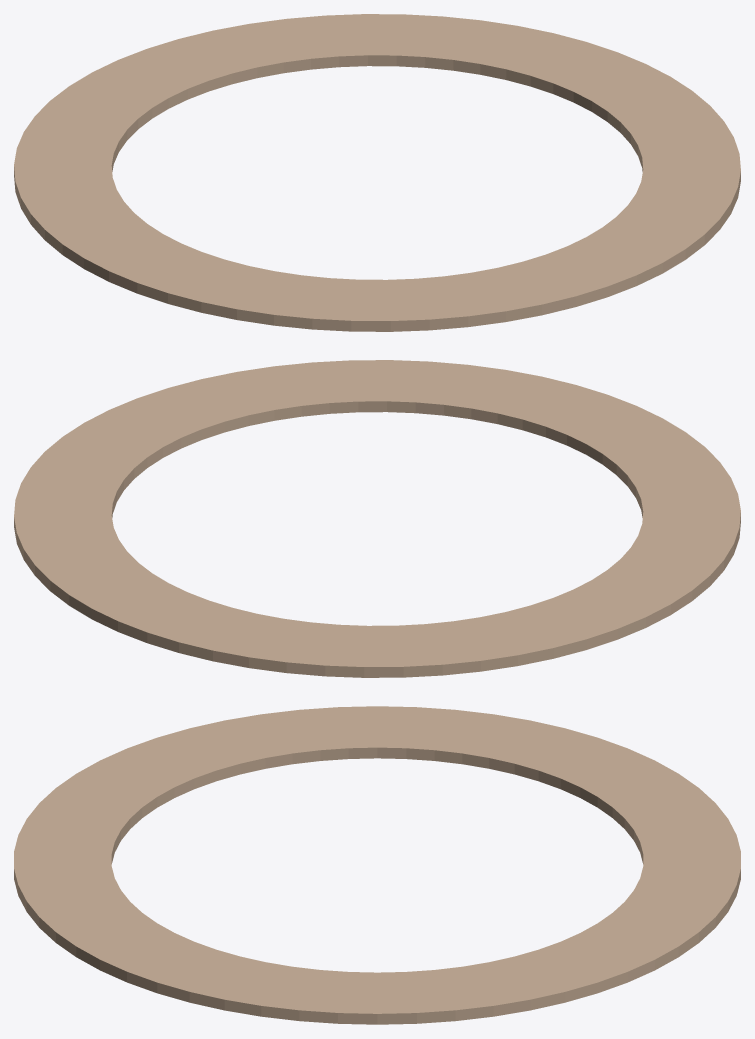
Rendered from oil-filter-anti-drainback.glb.
3 renders of one model, top to bottom at view 1: azimuth 30°, elevation 25°; view 2: azimuth 150°, elevation 25°; view 3: azimuth 270°, elevation 25°, orthographic.
Visible parts, largest first — view 1: world; view 2: world; view 3: world.
Part boxes in pixels (x1=…): world: x1=14, y1=14, x2=740, y2=331; world: x1=14, y1=360, x2=740, y2=677; world: x1=14, y1=706, x2=740, y2=1024.
Size of the model in its own units: 0.061 by 0.001 by 0.0609.
